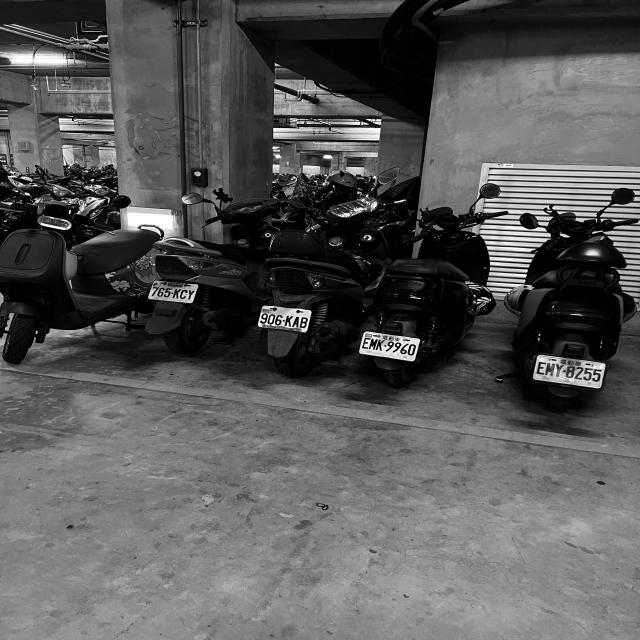-: (562, 370, 566, 373), (282, 319, 286, 322), (384, 344, 387, 347), (171, 292, 174, 295)
0: (406, 344, 417, 356), (259, 313, 269, 325), (266, 314, 276, 325)
2: (574, 366, 584, 381)
5: (591, 368, 603, 383), (583, 367, 594, 381), (163, 288, 172, 298)
6: (399, 343, 410, 355), (274, 314, 284, 326), (156, 287, 166, 297)
7: (150, 287, 160, 297)
8: (565, 365, 576, 379)
9: (391, 342, 403, 354), (384, 341, 395, 352)
A: (291, 316, 300, 328)
B: (299, 317, 308, 329)
C: (179, 289, 189, 300)
E: (536, 362, 547, 375), (362, 337, 371, 349)
K: (375, 339, 386, 351), (284, 315, 294, 327), (172, 289, 182, 299)
M: (544, 362, 556, 376), (368, 338, 378, 350)
Y: (554, 364, 564, 377), (186, 290, 195, 300)
plate: (534, 355, 606, 387), (359, 331, 420, 360), (258, 307, 312, 332), (148, 281, 199, 302)
